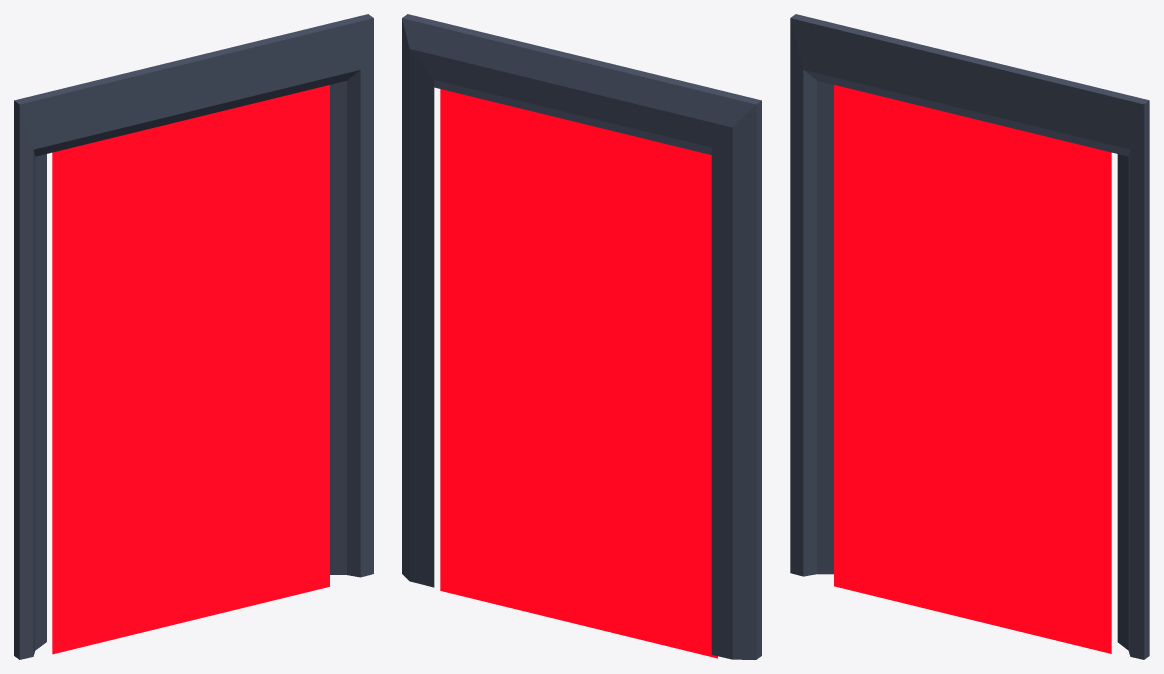
The model's file is laser-door.fbx.
The picture shows the model from 3 angles, left to right: view 1: azimuth 30°, elevation 25°; view 2: azimuth 150°, elevation 25°; view 3: azimuth 330°, elevation 25°; orthographic projection.
Parts seen in each view (by area): view 1: LaserDoorLasers; view 2: LaserDoorLasers; view 3: LaserDoorLasers.
Boxes of the visible parts, x1,y1,x2,y2 form: LaserDoorLasers: (14,14,373,659); LaserDoorLasers: (402,14,761,659); LaserDoorLasers: (790,14,1149,659).
Bounding box in the file's own units: 11.55 × 304 × 200.
